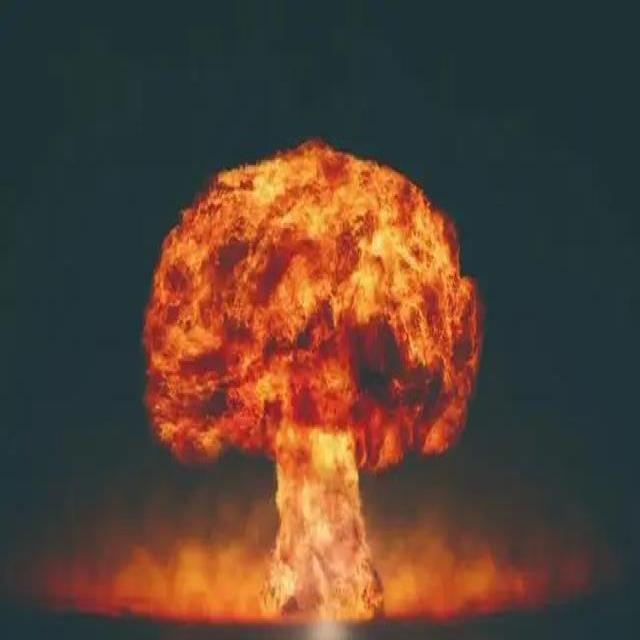fire: (128, 125, 484, 630)
